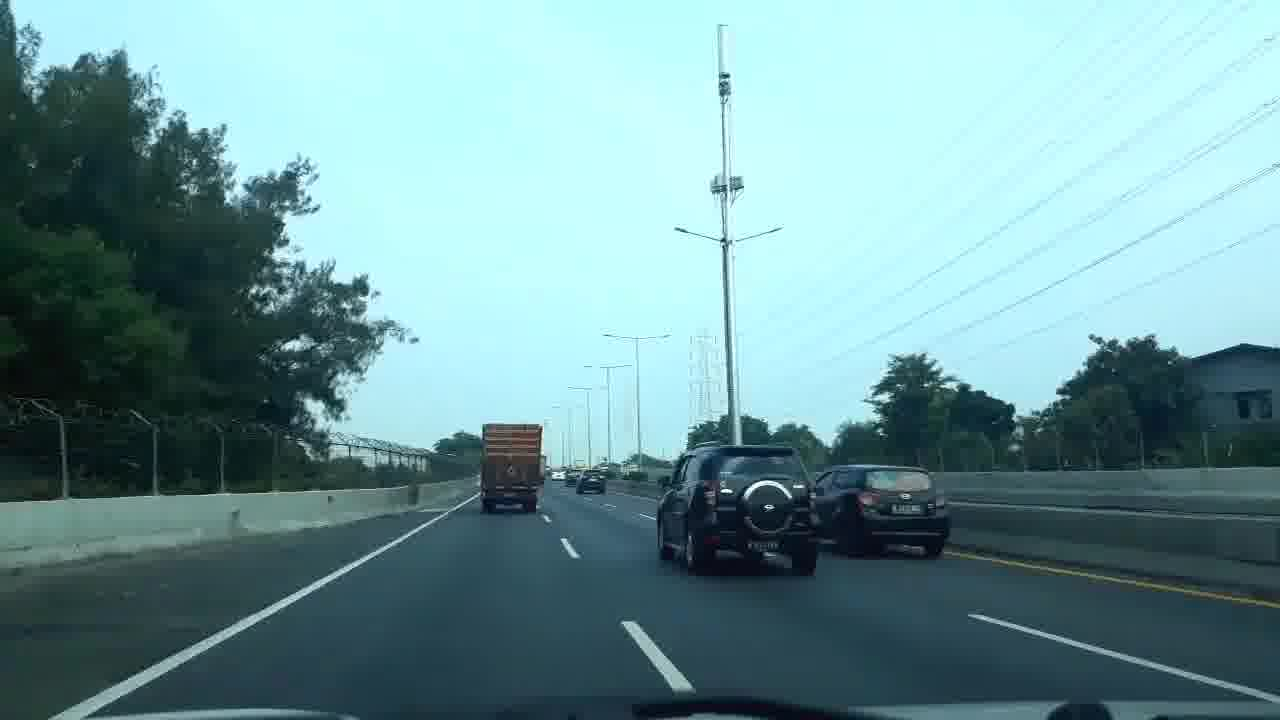plate_positive: (746, 540, 781, 553), (891, 503, 922, 516)
